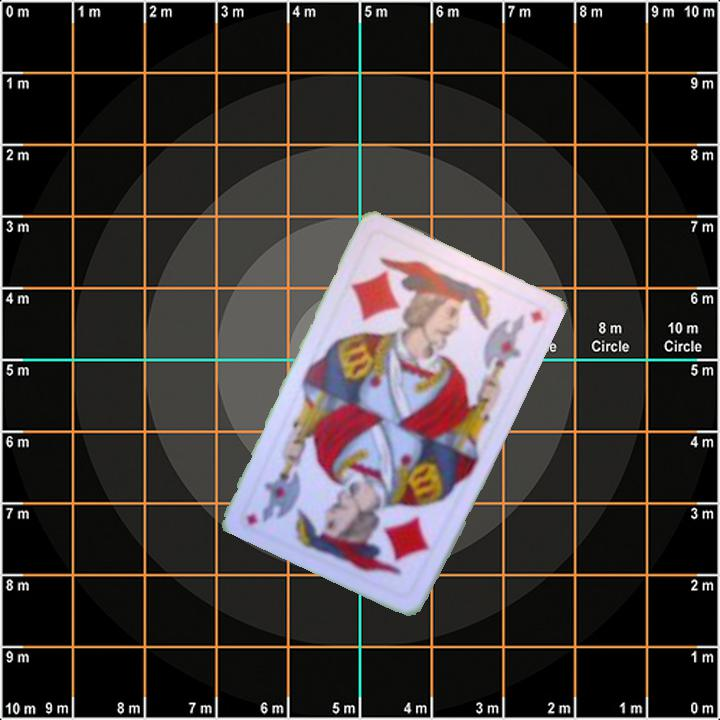d_j.png: (321, 481, 447, 600), (337, 228, 462, 346)
